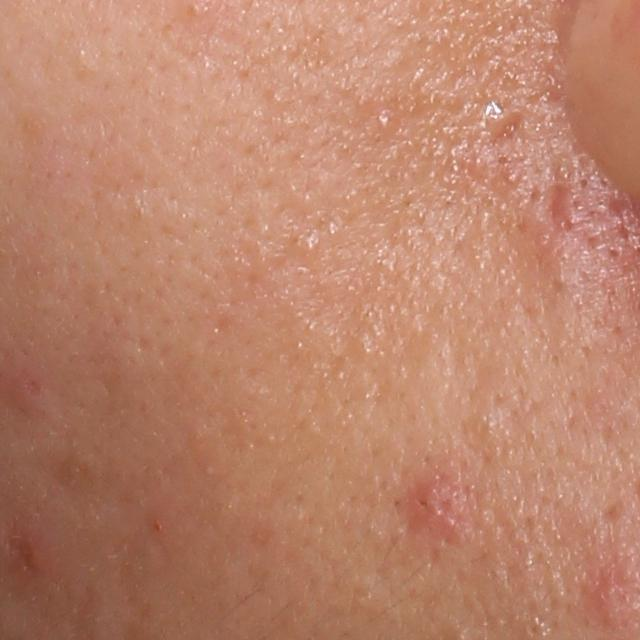atrophic_scar: (0, 516, 46, 578), (542, 174, 569, 235), (492, 112, 527, 156)
papule: (413, 478, 475, 537)
